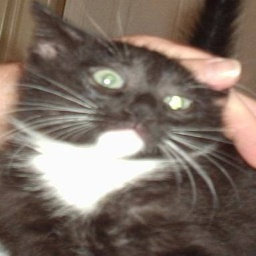cat: (5, 5, 256, 256)
